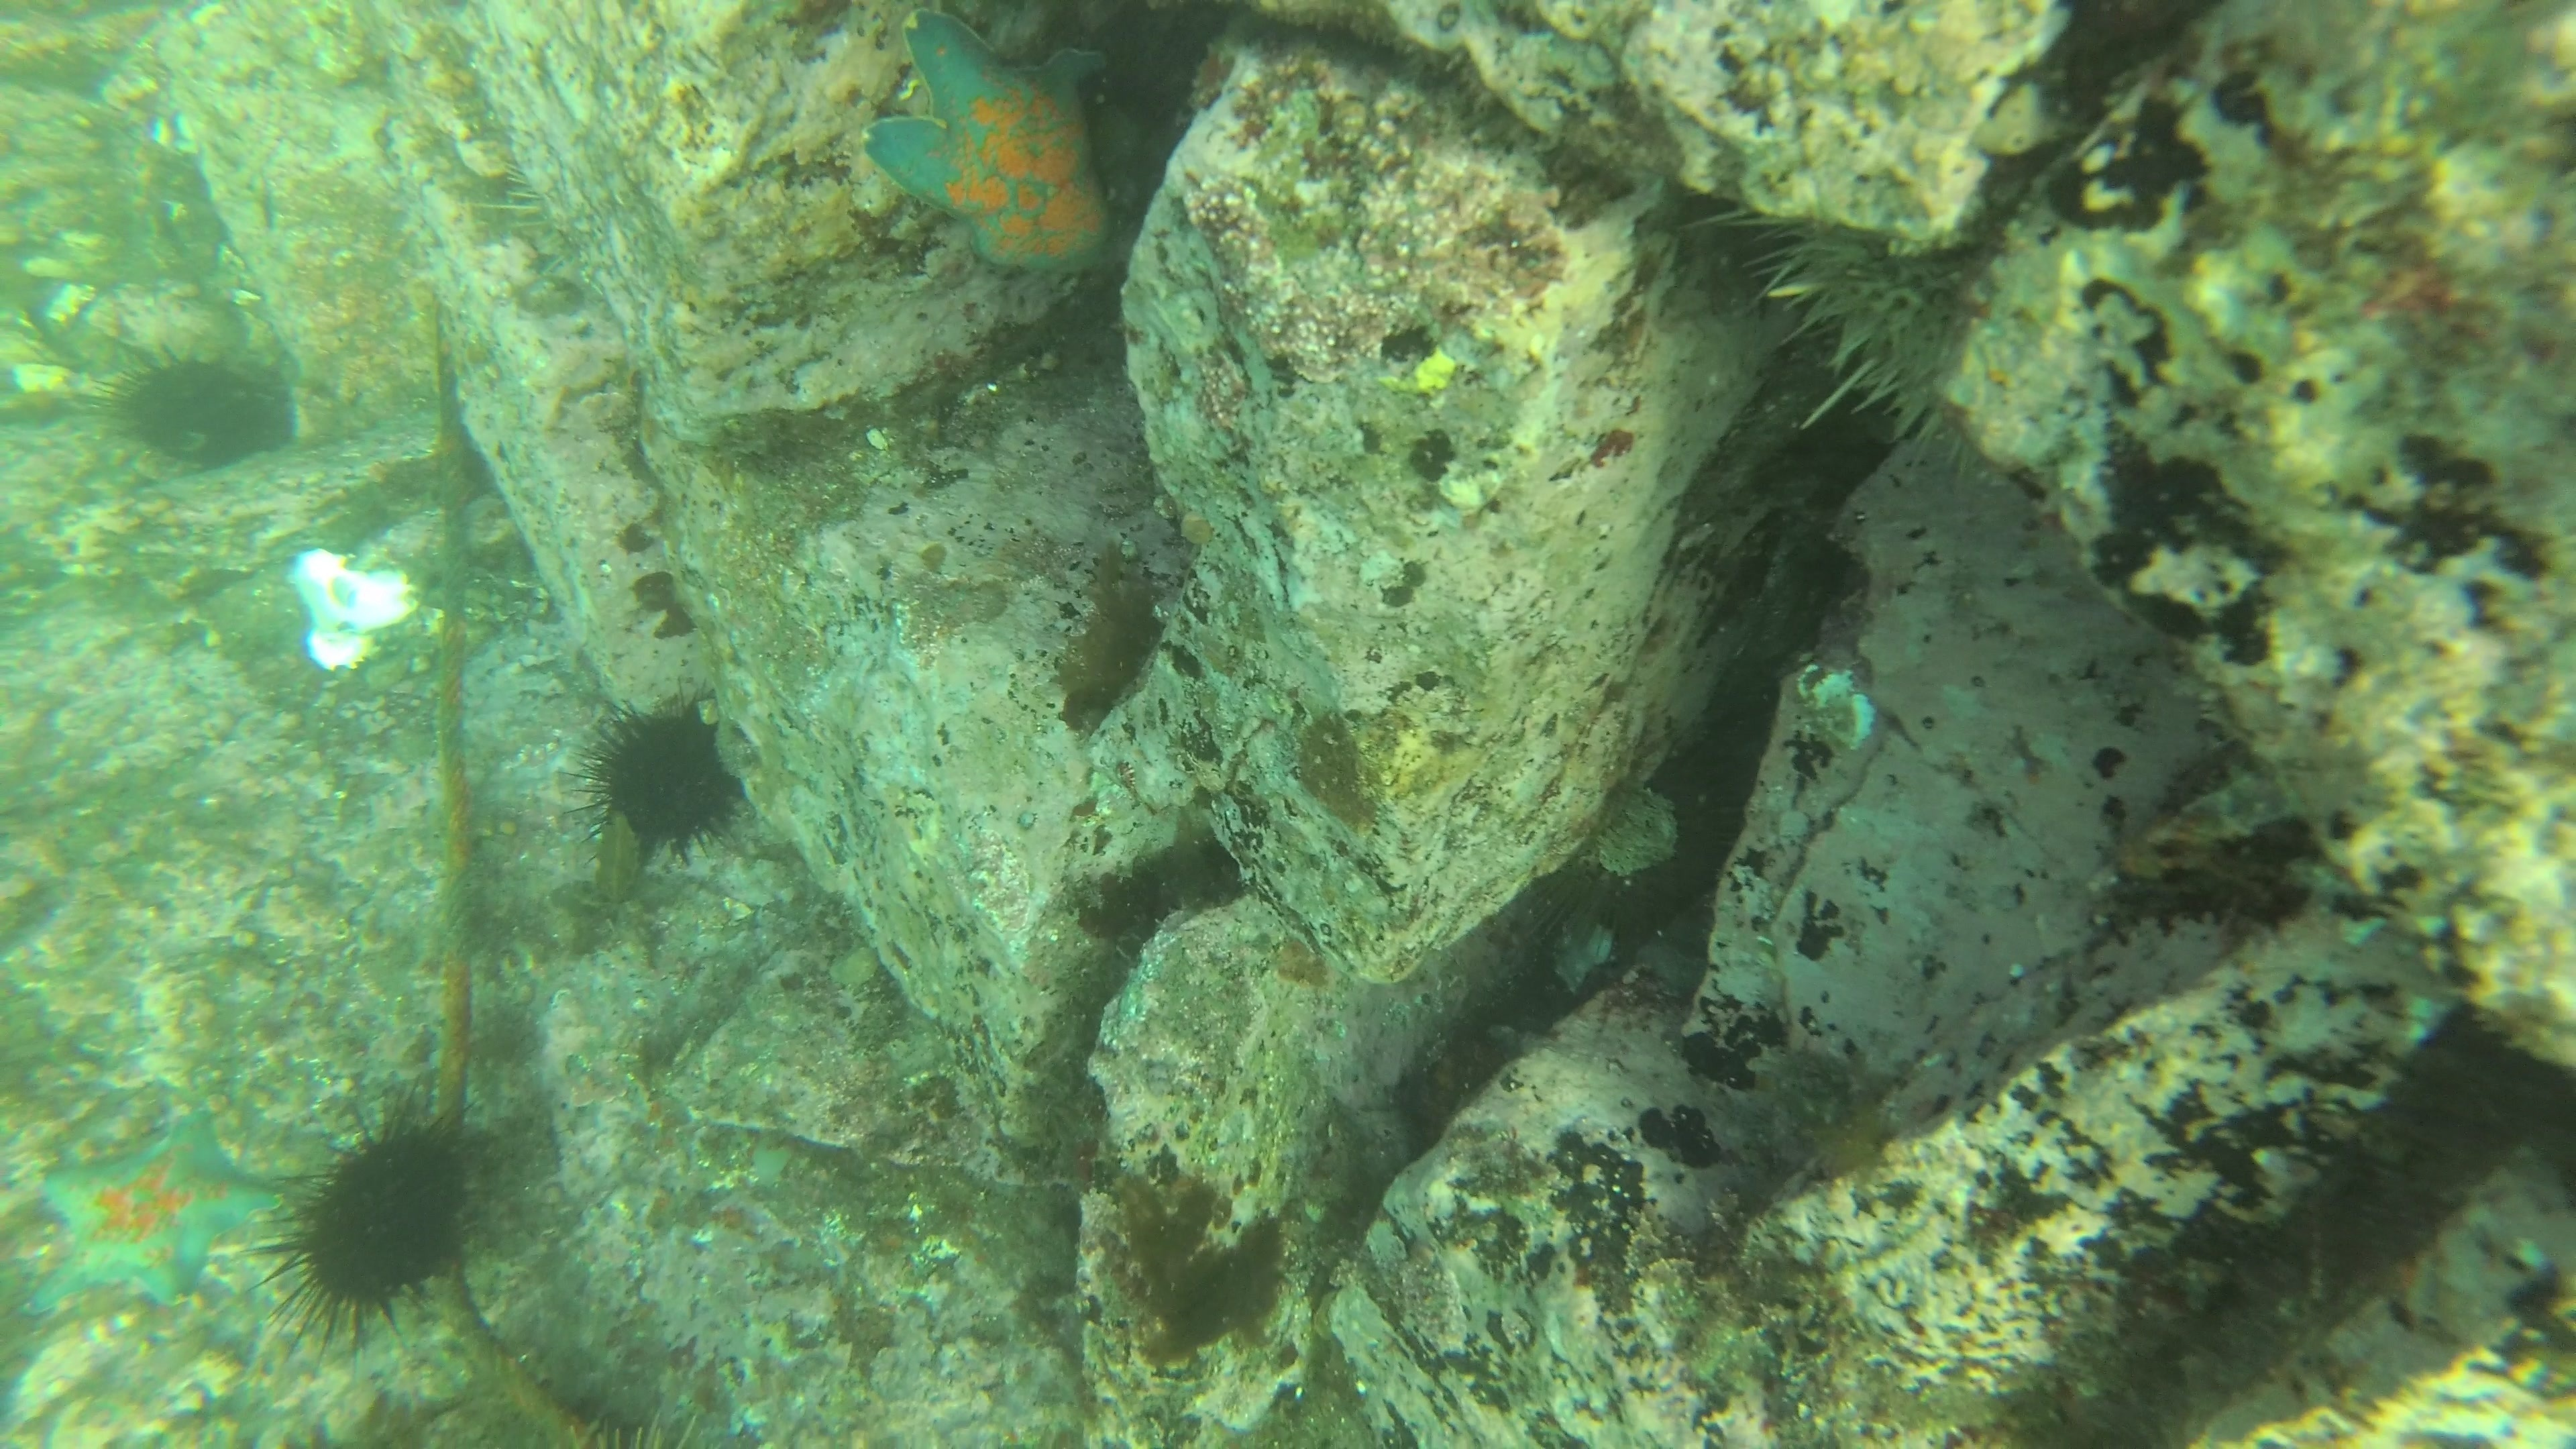echinus: (1702, 193, 2029, 441), (260, 1106, 490, 1341), (571, 692, 754, 865), (99, 338, 295, 476)
starfish: (858, 14, 1123, 287), (23, 1106, 280, 1322)
